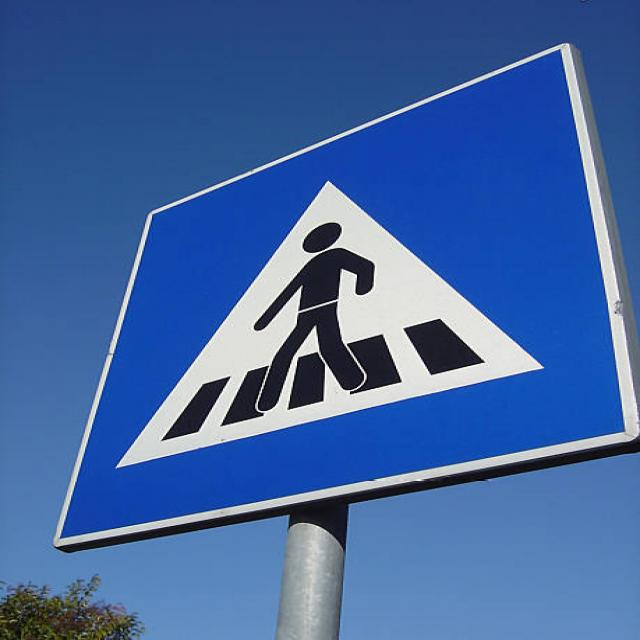crosswalk: (29, 36, 640, 555)
